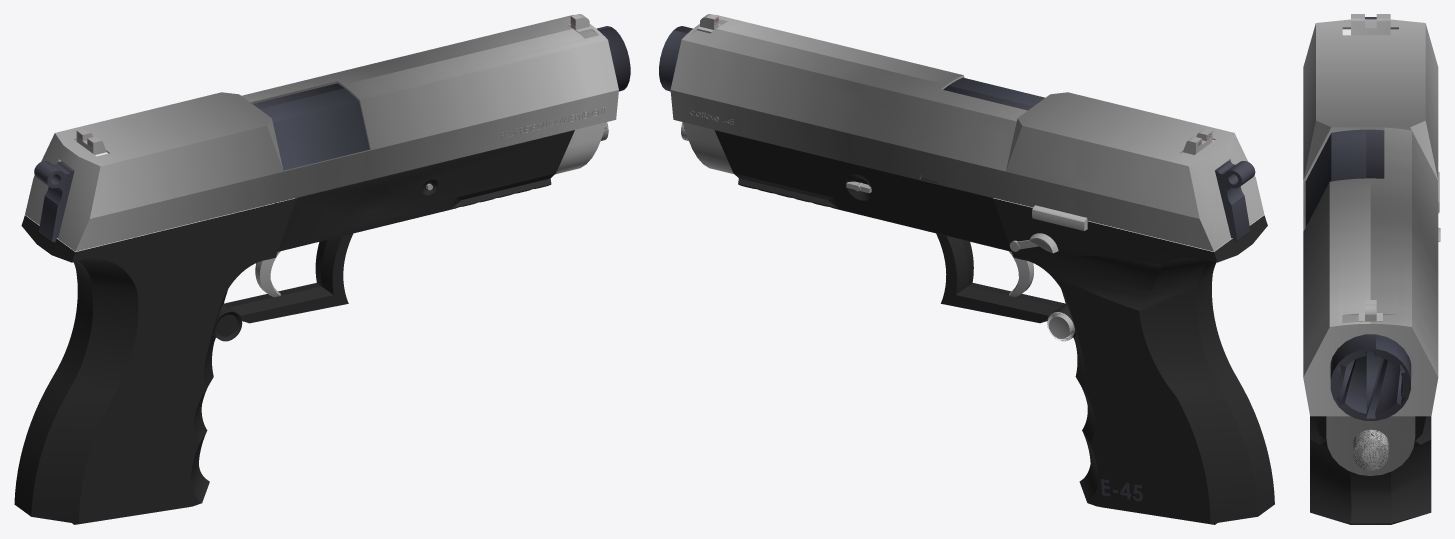
Rendered from projet PST2.dae.
3 renders of one model, left to right at view 1: azimuth 30°, elevation 25°; view 2: azimuth 150°, elevation 25°; view 3: azimuth 270°, elevation 25°, orthographic. The views are drawn at different scales.
Visible parts, largest first — view 1: group_5 (×2), group_9, group_10, group_4, group_12, group_11; view 2: group_9 (×2), group_5, group_4, group_12, group_10, group_11, group_3; view 3: group_9 (×4), group_5, group_11 (×2), group_10.
Part boxes in pixels (<box>): group_5 (×2): <box>14,130,574,523</box>; group_9: <box>25,14,618,251</box>; group_10: <box>253,83,369,170</box>; group_4: <box>214,233,352,340</box>; group_12: <box>34,161,74,242</box>; group_11: <box>596,26,630,91</box>; group_9 (×2): <box>670,14,1264,251</box>; group_5: <box>714,130,1274,523</box>; group_4: <box>936,233,1074,340</box>; group_12: <box>1215,161,1255,242</box>; group_10: <box>921,77,1044,182</box>; group_11: <box>659,26,692,91</box>; group_3: <box>1032,205,1087,230</box>; group_9 (×4): <box>1303,14,1438,475</box>; group_5: <box>1310,416,1431,524</box>; group_11 (×2): <box>1330,334,1410,420</box>; group_10: <box>1305,129,1384,226</box>.
Size of the model in its own units: 1384 by 232 by 840.
Materials: 8 (4 with a texture image).
